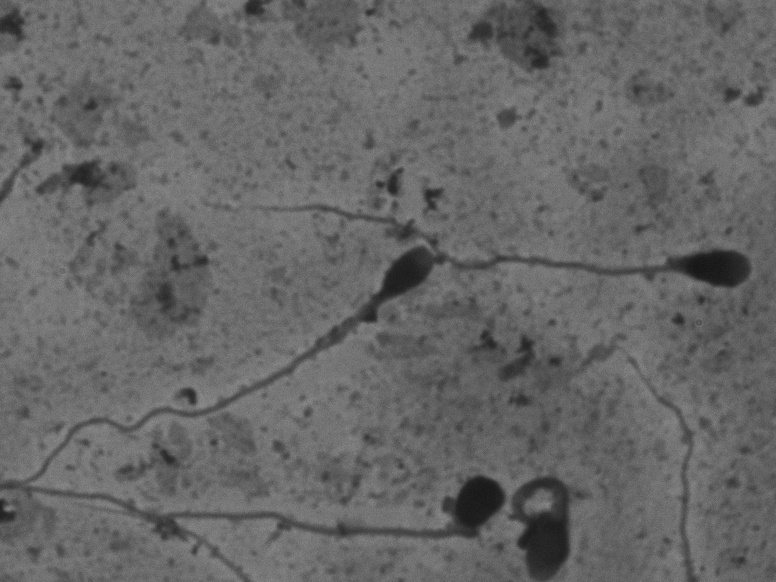Abnormal: (16, 239, 444, 468), (189, 172, 766, 299), (52, 465, 507, 555)
